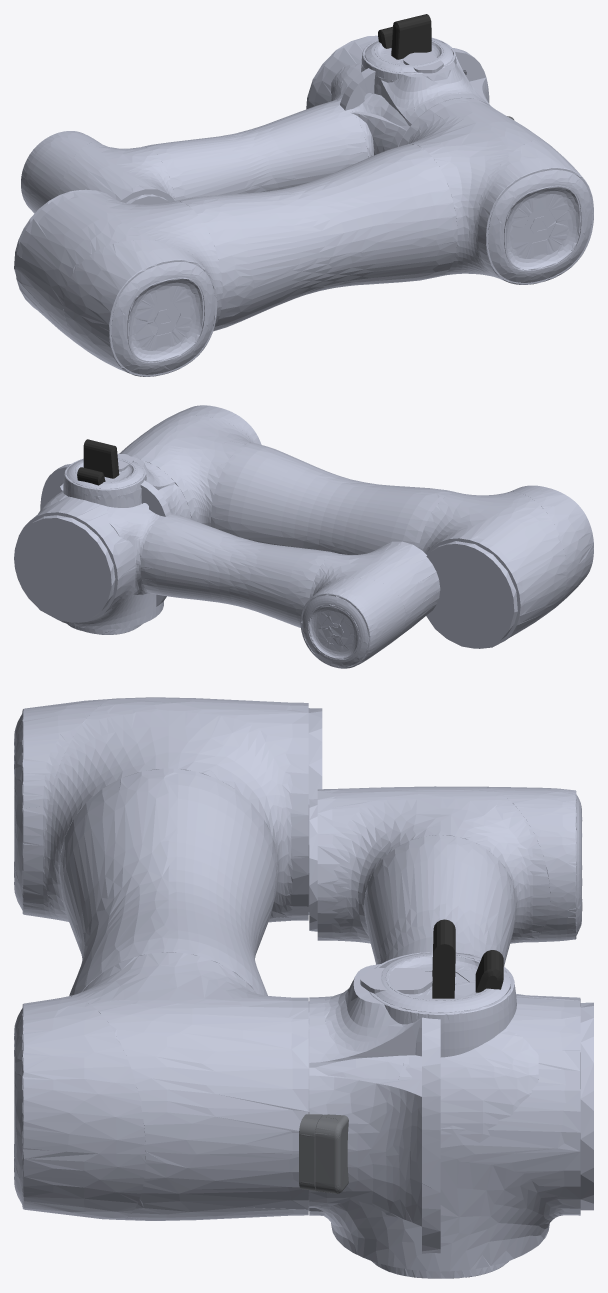
File: arm.glb
The picture shows the model from 3 angles, top to bottom: view 1: azimuth 30°, elevation 25°; view 2: azimuth 150°, elevation 25°; view 3: azimuth 270°, elevation 25°; orthographic projection. The views are drawn at different scales.
Visible parts, largest first — view 1: b4, b5, b2, b3, b6, b14; view 2: b4, b5, b3, b2, b6, b14, b7, b11; view 3: b4, b5, b3, b2, b6, b9, b14, b11, b7.
Part boxes in pixels (x1,y1,x2,y2): b4: (14,98,593,376); b5: (21,63,388,213); b2: (340,48,491,155); b3: (306,35,486,125); b6: (361,37,456,95); b14: (391,14,431,59); b4: (119,405,593,648); b5: (38,491,440,668); b3: (14,485,173,629); b2: (40,453,191,606); b6: (63,458,146,507); b14: (83,439,119,478); b7: (67,480,146,634); b11: (77,467,105,485); b4: (14,697,322,1220); b5: (309,786,582,1143); b3: (308,995,593,1271); b2: (309,964,440,1253); b6: (369,951,516,1057); b9: (299,1112,348,1193); b14: (432,919,455,998); b11: (475,950,503,992); b7: (371,994,516,1278).
Bounding box in the file's own units: 0.5124 × 0.1941 × 0.3137.
